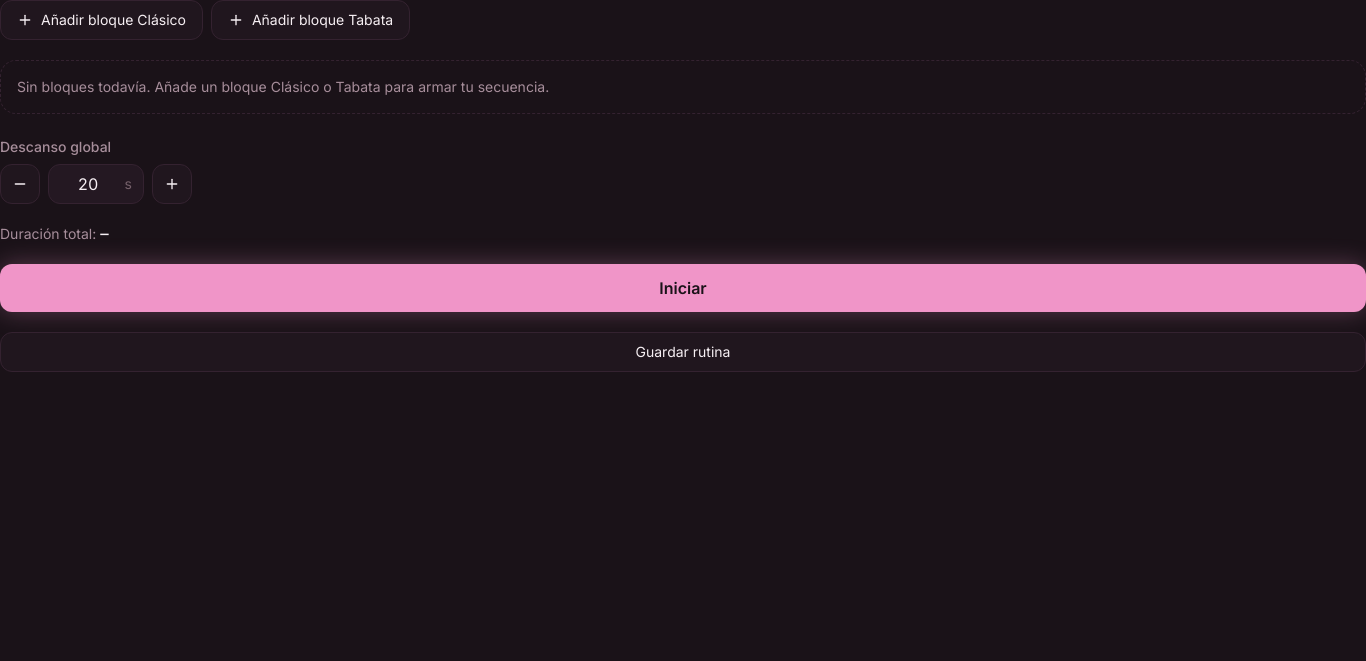
Scenario: PersonalizadoBuilder — resumen vivo vía compilePlan › total 2:00 — descanso global SOLO entre bloques, nunca tras el final
Click the button "Añadir bloque Tabata" at (310, 20), box 211,0 -> 410,40
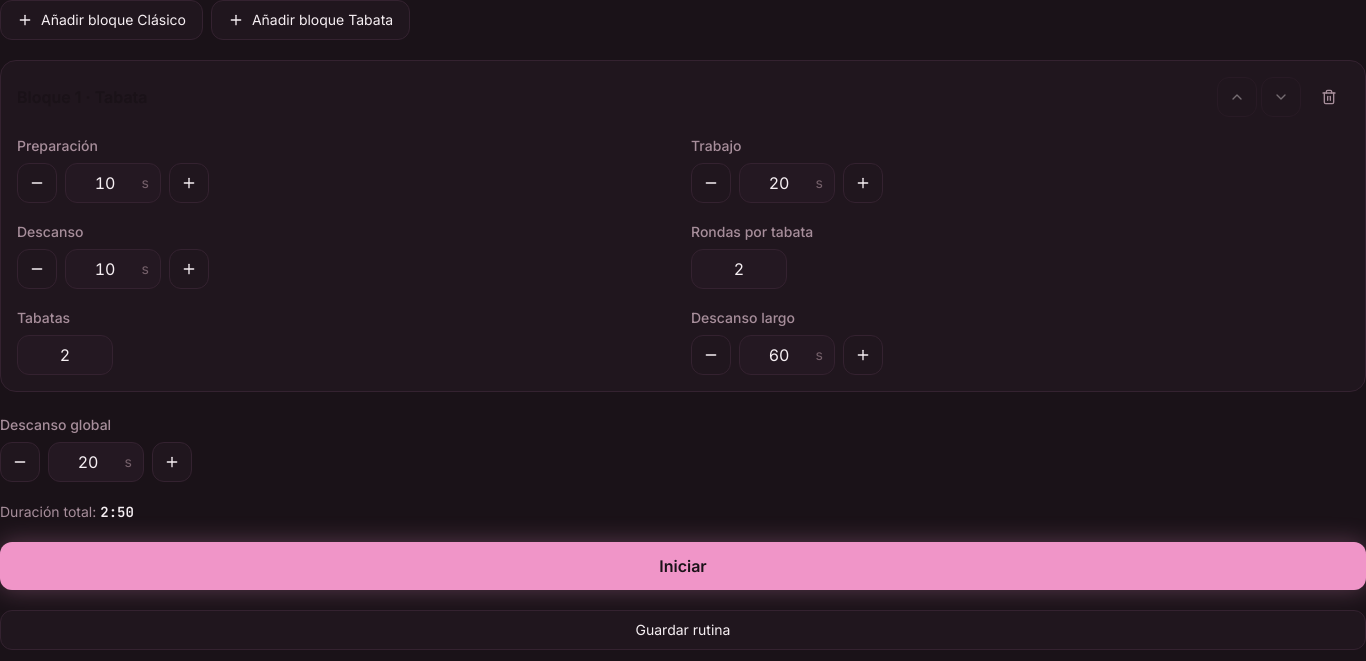
Replace the text in the field labelled "Tabatas" with "1" at (65, 355), box 17,335 -> 113,375
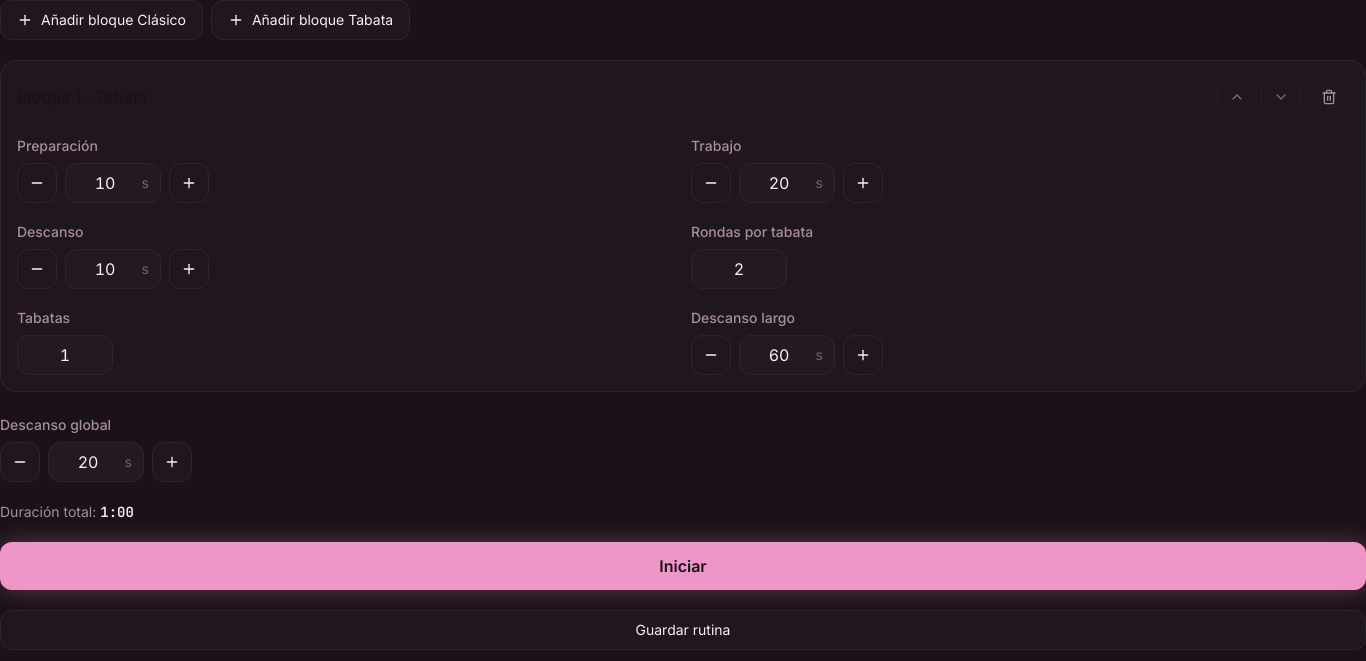
Click the button "Añadir bloque Clásico" at (101, 20), box 0,0 -> 203,40
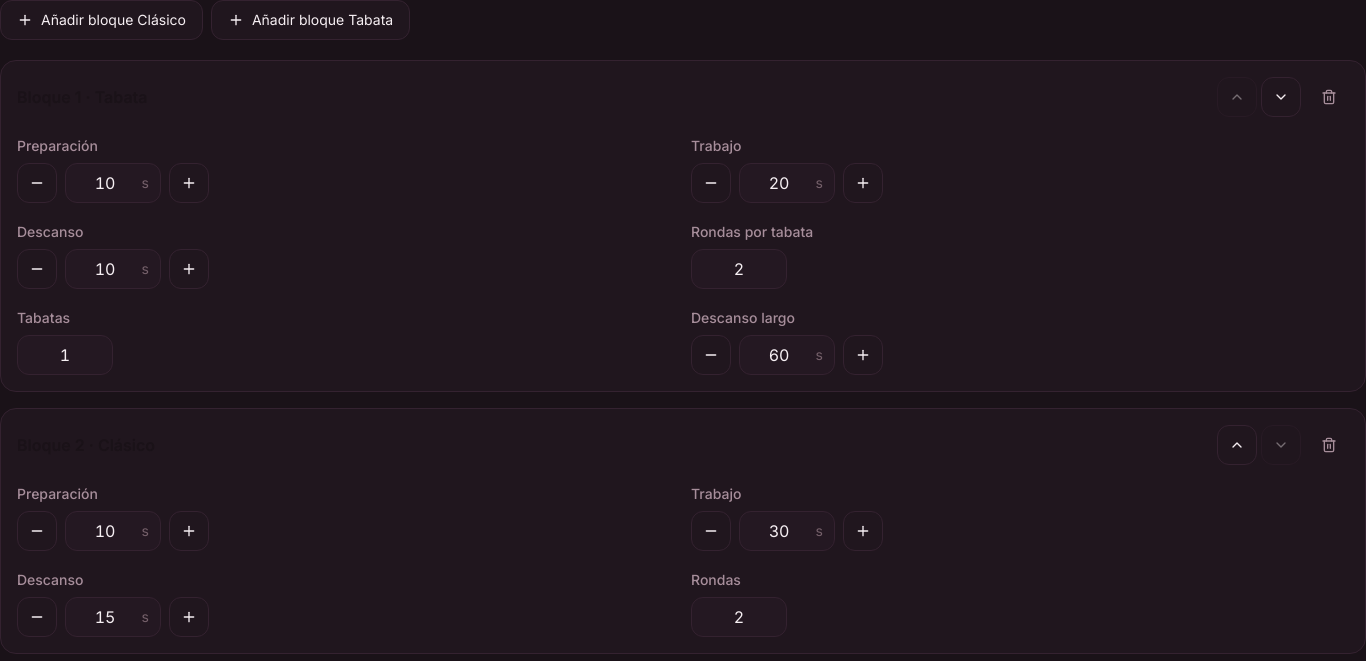
Replace the text in the field labelled "Rondas" with "1" at (739, 617), box 691,597 -> 787,637
(page scrolled)
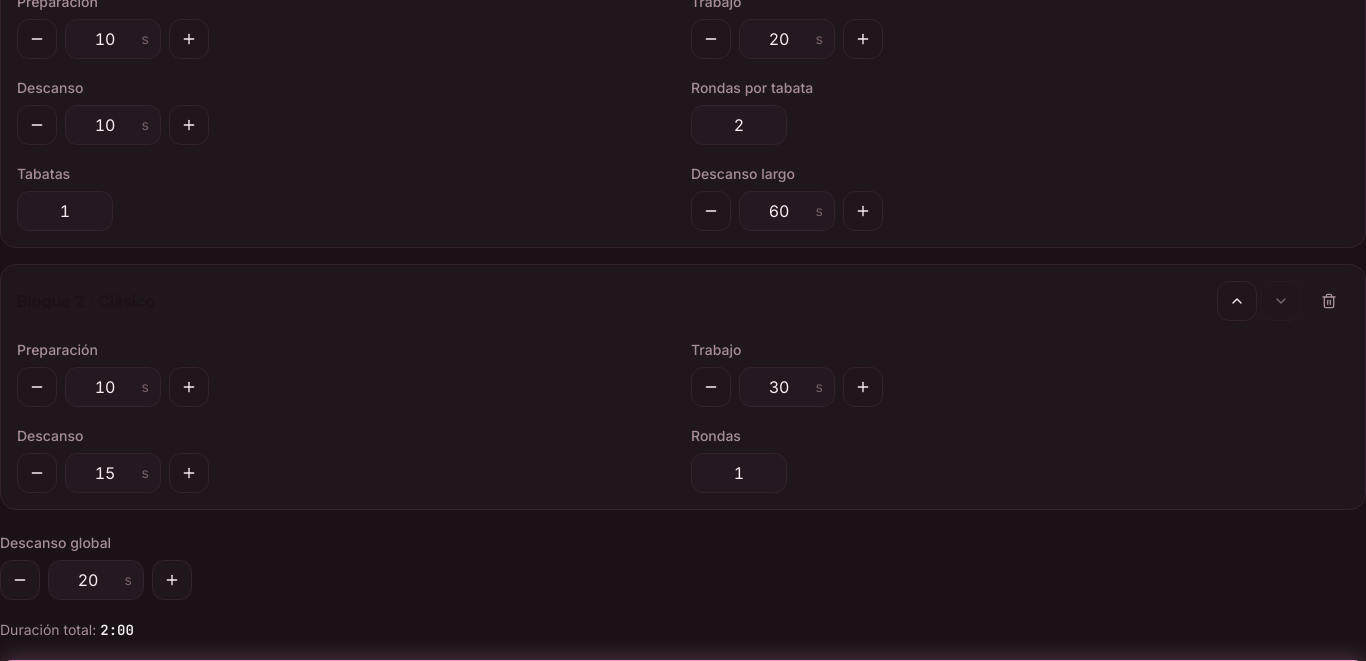
Result: the text with test id "total-sesion" reads "2:00" at 100,621 -> 134,639
